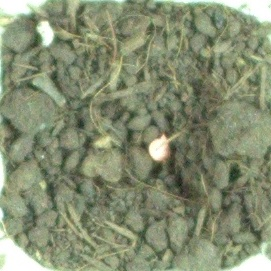pepper seed: (58, 52, 233, 215)
